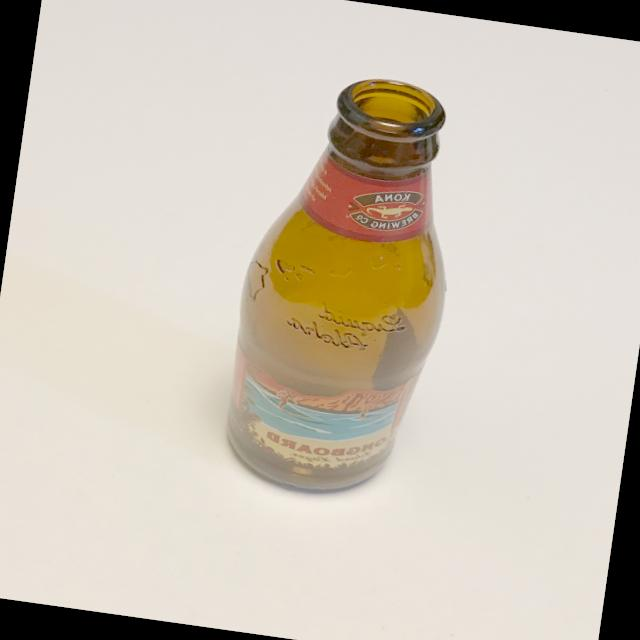Glass: (197, 47, 486, 530)
